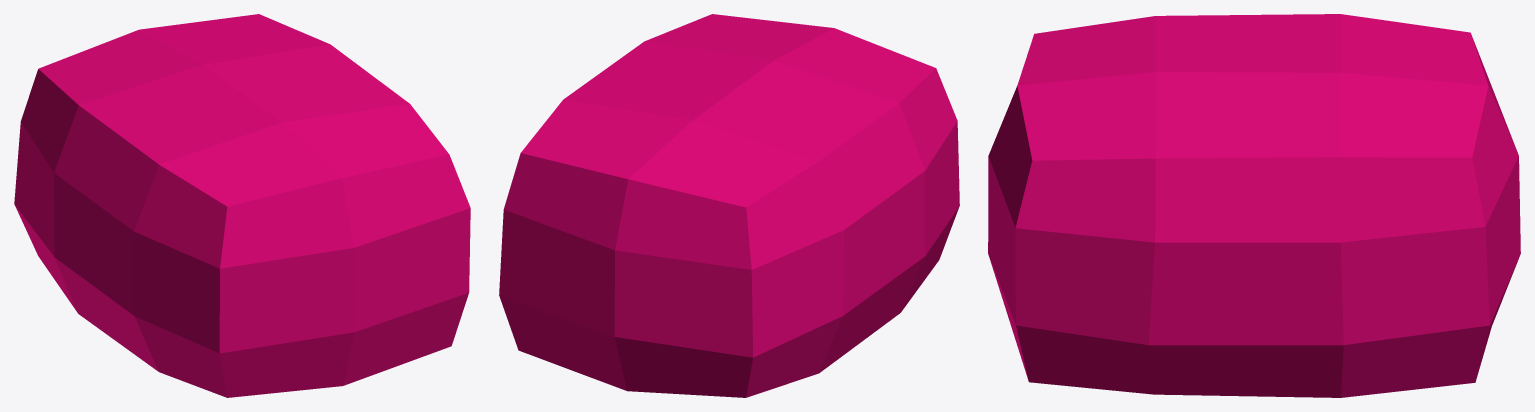
File: Rock_Cube_01_Lod1.fbx
3 renders of one model, left to right at view 1: azimuth 30°, elevation 25°; view 2: azimuth 150°, elevation 25°; view 3: azimuth 270°, elevation 25°, orthographic. The views are drawn at different scales.
Visible parts, largest first — view 1: Rock_Cube_01_Lod1; view 2: Rock_Cube_01_Lod1; view 3: Rock_Cube_01_Lod1.
Part boxes in pixels (x1,y1,x2,y2): Rock_Cube_01_Lod1: [14, 14, 470, 397]; Rock_Cube_01_Lod1: [499, 14, 959, 397]; Rock_Cube_01_Lod1: [988, 14, 1520, 397].
Bounding box in the file's own units: 38.1 × 27.69 × 50.
